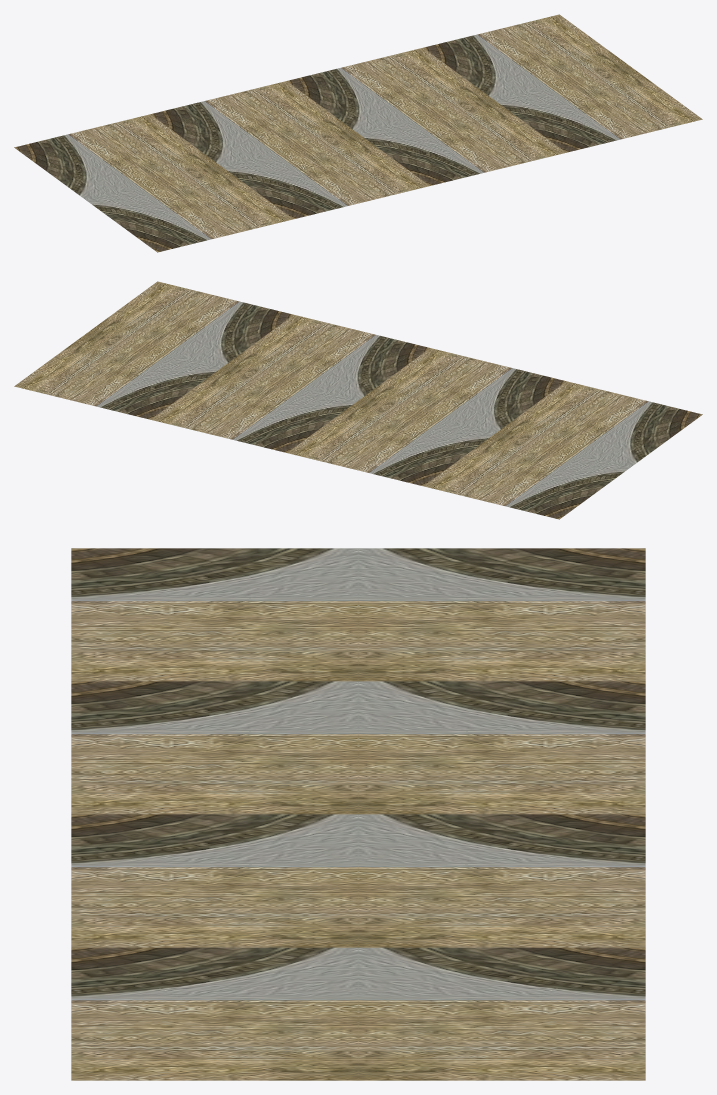
Rendered from S_Build_City016.FBX.
The picture shows the model from 3 angles, top to bottom: view 1: azimuth 30°, elevation 25°; view 2: azimuth 150°, elevation 25°; view 3: azimuth 270°, elevation 25°; orthographic projection. The views are drawn at different scales.
Visible parts, largest first — view 1: S_Build_City016; view 2: S_Build_City016; view 3: S_Build_City016.
Boxes of the visible parts, <box> form: S_Build_City016: <box>14,14,702,252</box>; S_Build_City016: <box>14,281,702,519</box>; S_Build_City016: <box>71,548,645,1080</box>.
Size of the model in its own units: 4711 by 0.0311 by 2147.
Materials: 1 (1 with a texture image).
